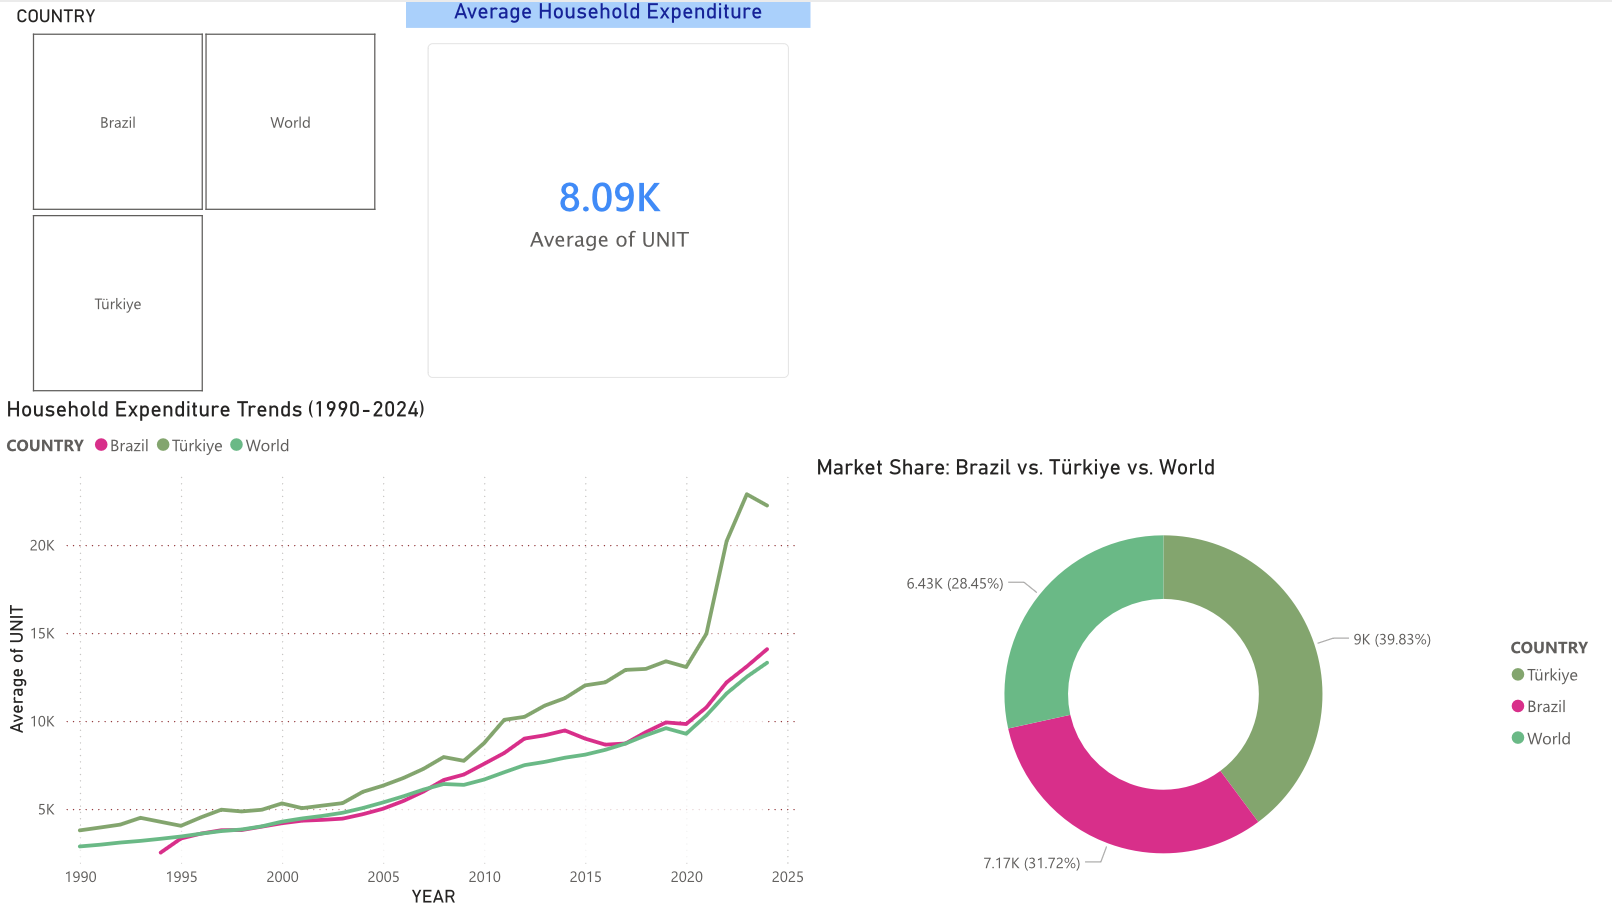

Layout of this report page (visuals, bound fields, positions):
{"tool":"powerbi","page":{"name":"Page 1","canvas":[1280,720],"ordinal":0},"visuals":[{"type":"lineChart","title":" Household Expenditure Trends (1990-2024)","fields":{"Series":["Raw_Data.COUNTRY"],"Y":["Avg(Raw_Data.UNIT)"],"Category":["Raw_Data.YEAR"]},"box":[0,314.9,640.8,405],"z":0},{"type":"donutChart","title":"Market Share: Brazil vs. Türkiye vs. World ","fields":{"Category":["Raw_Data.COUNTRY"],"Y":["Avg(Raw_Data.UNIT)"]},"box":[640.8,360.7,639.2,359.2],"z":1},{"type":"slicer","fields":{"Values":["Raw_Data.COUNTRY"]},"box":[0,0,321.2,314.9],"z":2},{"type":"cardVisual","title":"Average Household Expenditure","fields":{"Data":["Avg(Raw_Data.UNIT)"]},"box":[321,0,320,315],"z":3}]}

Visuals, with their boxes in screenshot pixels (x1, y1, x2, y2), scaled from the page's 1280x720 canvas onto the 1612x912 screenshot:
" Household Expenditure Trends (1990-2024)" lineChart: bbox=(0, 399, 807, 911)
"Market Share: Brazil vs. Türkiye vs. World " donutChart: bbox=(807, 457, 1611, 911)
slicer - Raw_Data.COUNTRY: bbox=(0, 0, 405, 399)
"Average Household Expenditure" cardVisual: bbox=(404, 0, 807, 399)
